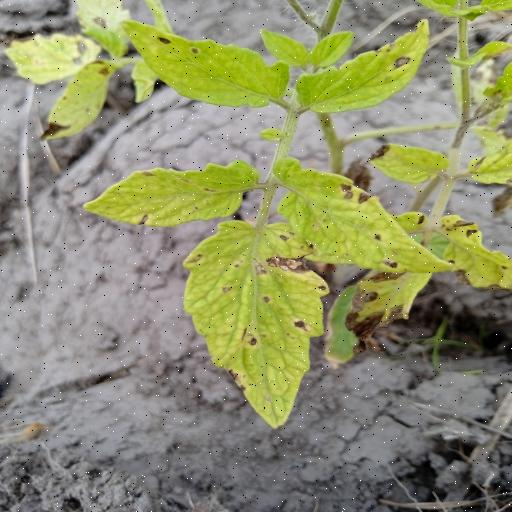Tomato_Brown_Spots: (181, 217, 333, 430), (273, 161, 458, 277), (113, 16, 299, 113), (293, 16, 433, 113), (82, 156, 264, 229)
